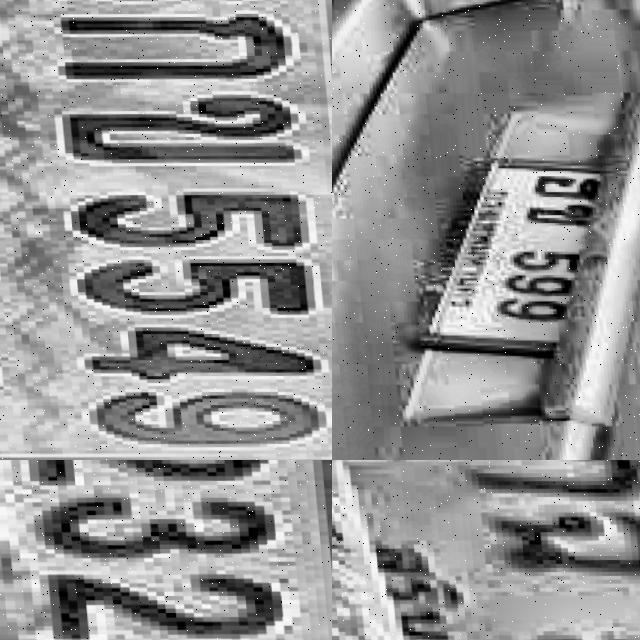license-plate: (0, 0, 332, 460), (0, 460, 332, 640), (332, 460, 640, 640), (387, 152, 638, 358)
